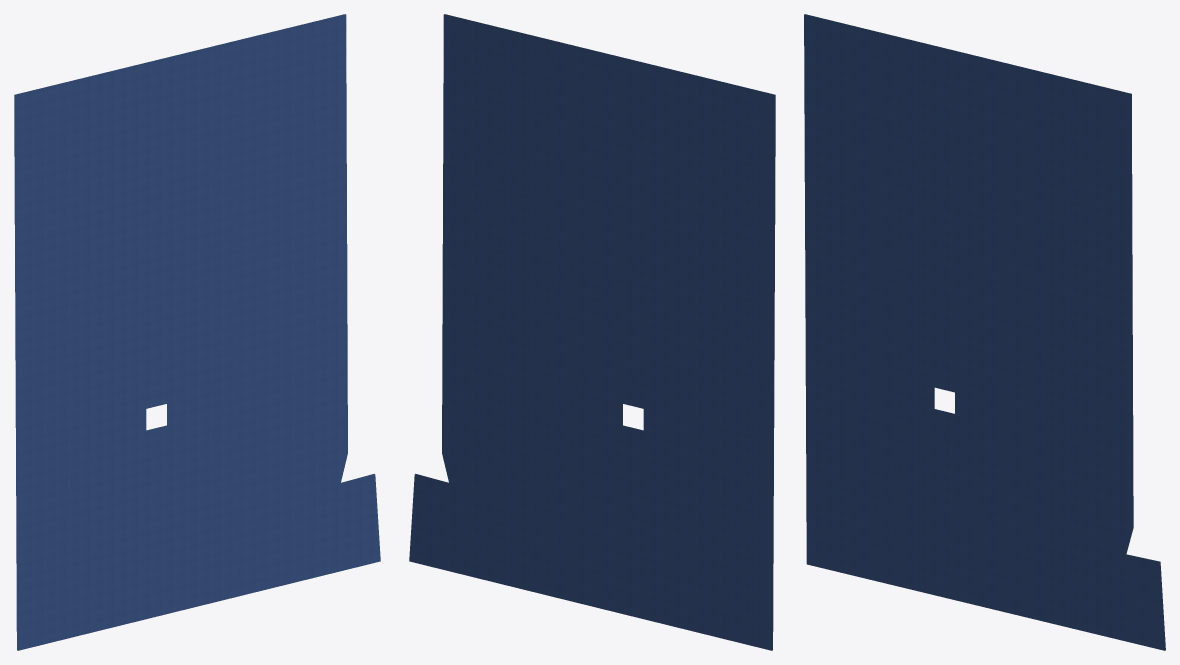
Rendered from floor_1.obj.
3 renders of one model, left to right at view 1: azimuth 30°, elevation 25°; view 2: azimuth 150°, elevation 25°; view 3: azimuth 330°, elevation 25°, orthographic.
Visible parts, largest first — view 1: floor_1; view 2: floor_1; view 3: floor_1.
Boxes of the visible parts, x1=… form: floor_1: x1=14, y1=14, x2=380, y2=650; floor_1: x1=409, y1=14, x2=775, y2=650; floor_1: x1=804, y1=14, x2=1165, y2=650.
Bounding box in the file's own units: 30.99 × 45.02 × 0.1.
